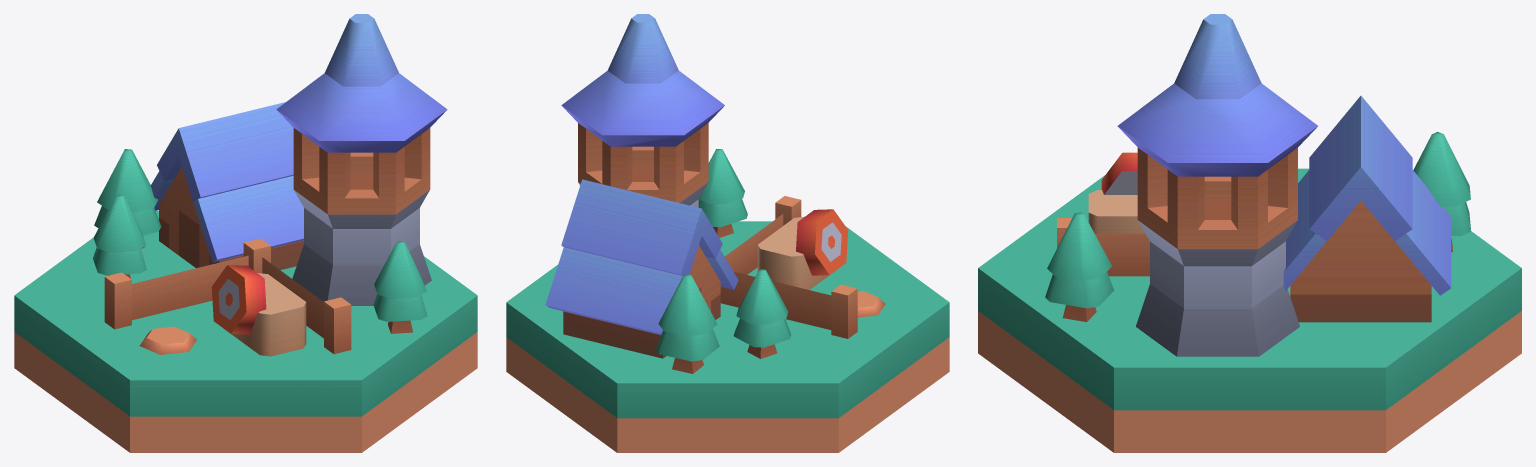
Rendered from building-archery.glb.
3 views of the same model, side by side, from view 1: azimuth 30°, elevation 25°; view 2: azimuth 150°, elevation 25°; view 3: azimuth 270°, elevation 25° (orthographic). The views are drawn at different scales.
Parts seen in each view (by area): view 1: building-archery; view 2: building-archery; view 3: building-archery.
Part boxes in pixels (x1,y1,x2,y2): building-archery: (14,14,477,452); building-archery: (506,14,949,452); building-archery: (978,14,1521,452).
Size of the model in its own units: 1 by 0.92 by 1.15.
1 material, 1 textured.
